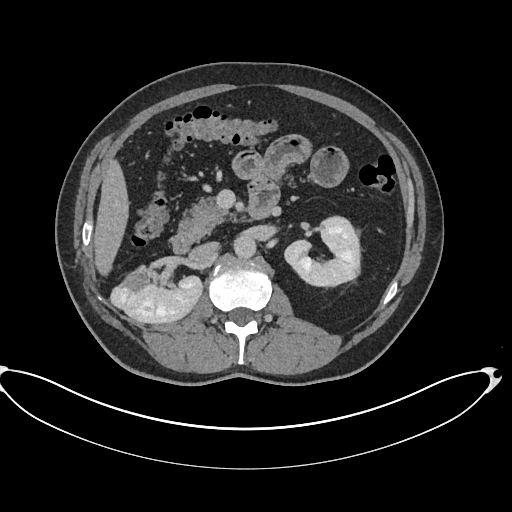Lesion: (125, 273, 152, 294)
